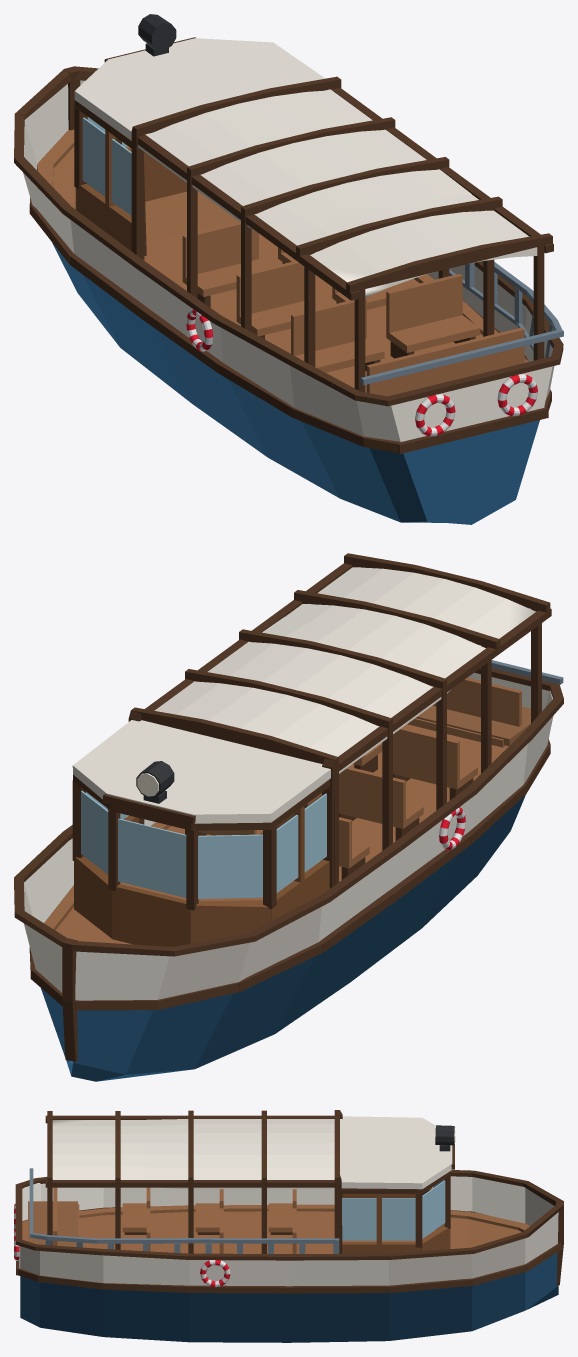
The model's file is main boat.fbx.
3 renders of one model, top to bottom at view 1: azimuth 30°, elevation 25°; view 2: azimuth 150°, elevation 25°; view 3: azimuth 270°, elevation 25°, orthographic. The views are drawn at different scales.
Visible parts, largest first — view 1: CanopyPillar_-1_4; view 2: CanopyPillar_-1_4; view 3: CanopyPillar_-1_4.
Boxes of the visible parts, x1,y1,x2,y2 form: CanopyPillar_-1_4: (14,14,563,524); CanopyPillar_-1_4: (14,553,563,1081); CanopyPillar_-1_4: (14,1110,563,1342).
Bounding box in the file's own units: 314 × 332 × 827.
